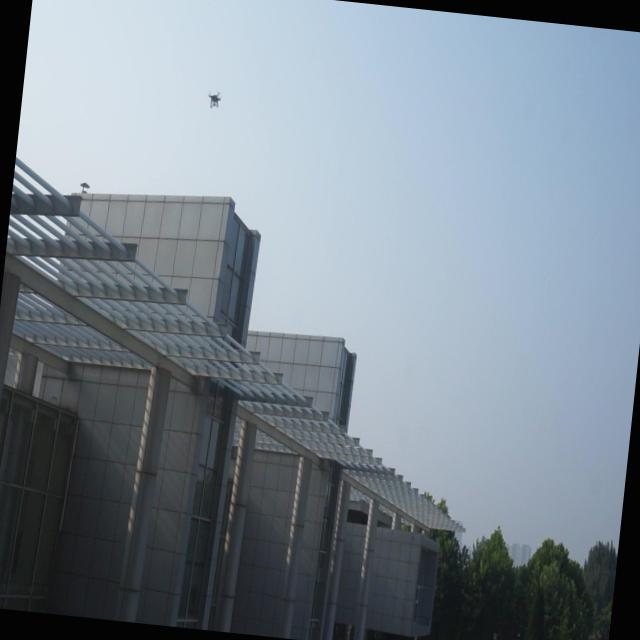drone: (206, 85, 223, 114)
